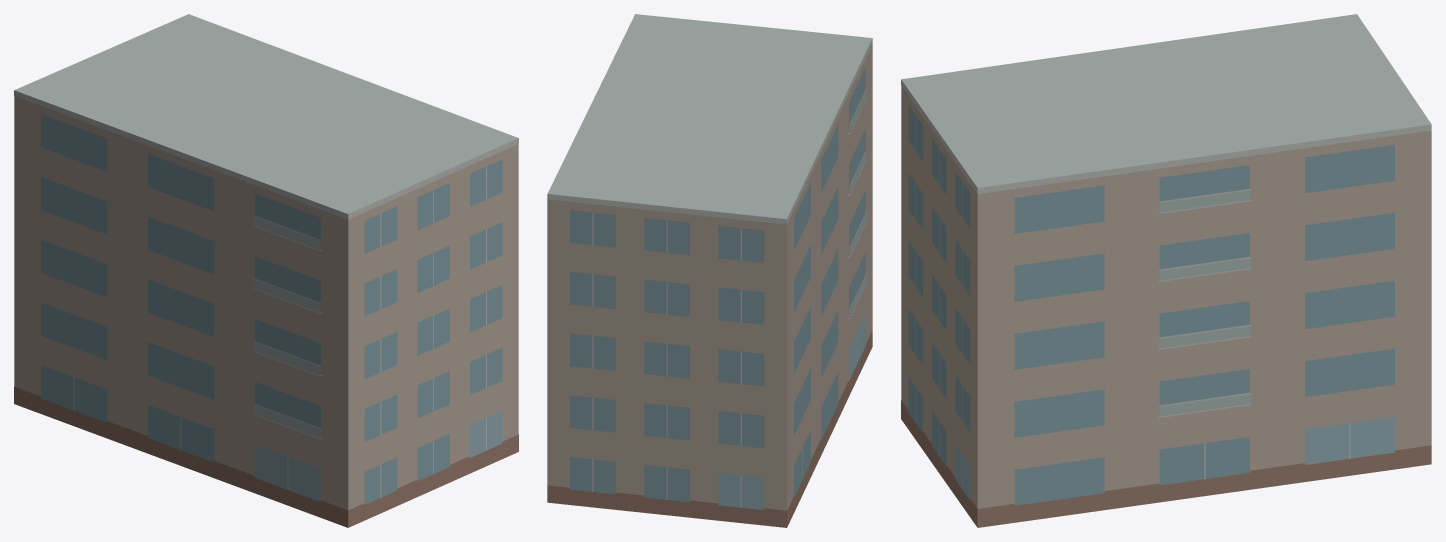
The model's file is survey-upis-32835583.glb.
The picture shows the model from 3 angles, left to right: view 1: azimuth 30°, elevation 25°; view 2: azimuth 150°, elevation 25°; view 3: azimuth 270°, elevation 25°; orthographic projection. The views are drawn at different scales.
Visible parts, largest first — view 1: survey-upis-32835583.tmp; view 2: survey-upis-32835583.tmp; view 3: survey-upis-32835583.tmp.
Boxes of the visible parts, x1=… form: survey-upis-32835583.tmp: x1=14, y1=14, x2=518, y2=527; survey-upis-32835583.tmp: x1=547, y1=14, x2=872, y2=527; survey-upis-32835583.tmp: x1=901, y1=14, x2=1431, y2=527.
Size of the model in its own units: 14.9 by 13.55 by 19.19.
